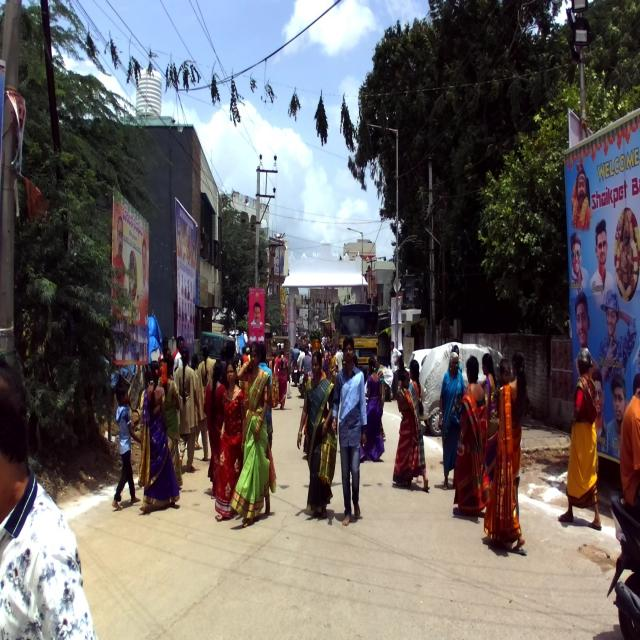car: (415, 341, 508, 438)
